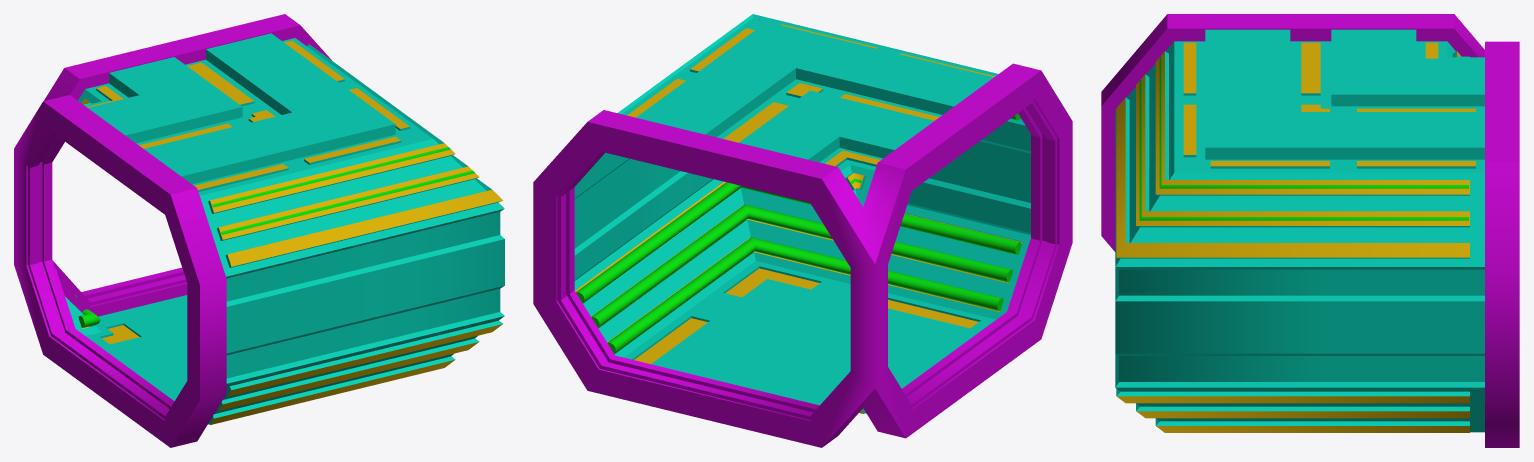
Rendered from sf2_gguck.fbx.
The picture shows the model from 3 angles, left to right: view 1: azimuth 30°, elevation 25°; view 2: azimuth 150°, elevation 25°; view 3: azimuth 270°, elevation 25°; orthographic projection. The views are drawn at different scales.
Parts seen in each view (by area): view 1: Shape002; view 2: Shape002; view 3: Shape002.
Part boxes in pixels (bbox=[...]): Shape002: bbox=[14, 14, 504, 447]; Shape002: bbox=[533, 14, 1072, 447]; Shape002: bbox=[1101, 14, 1519, 447].
Size of the model in its own units: 74.48 by 56 by 74.48.
